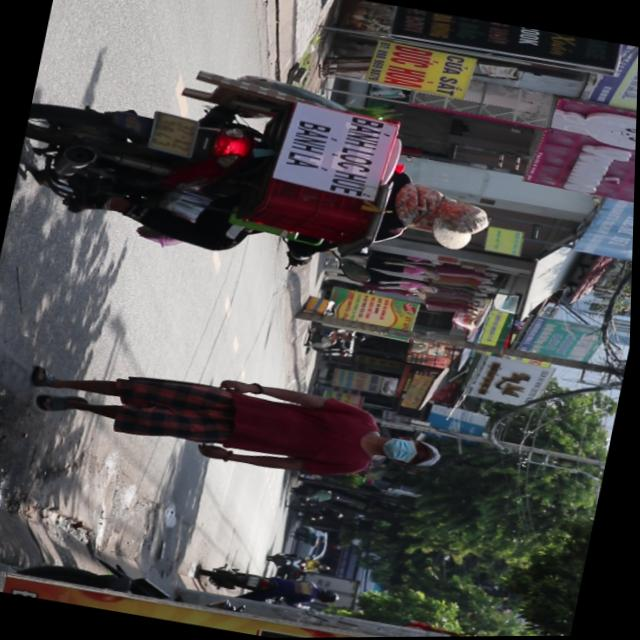licenseplate: (6, 33, 515, 300)
motorcyclist: (392, 181, 497, 255)
nohelmet: (148, 110, 200, 158)
